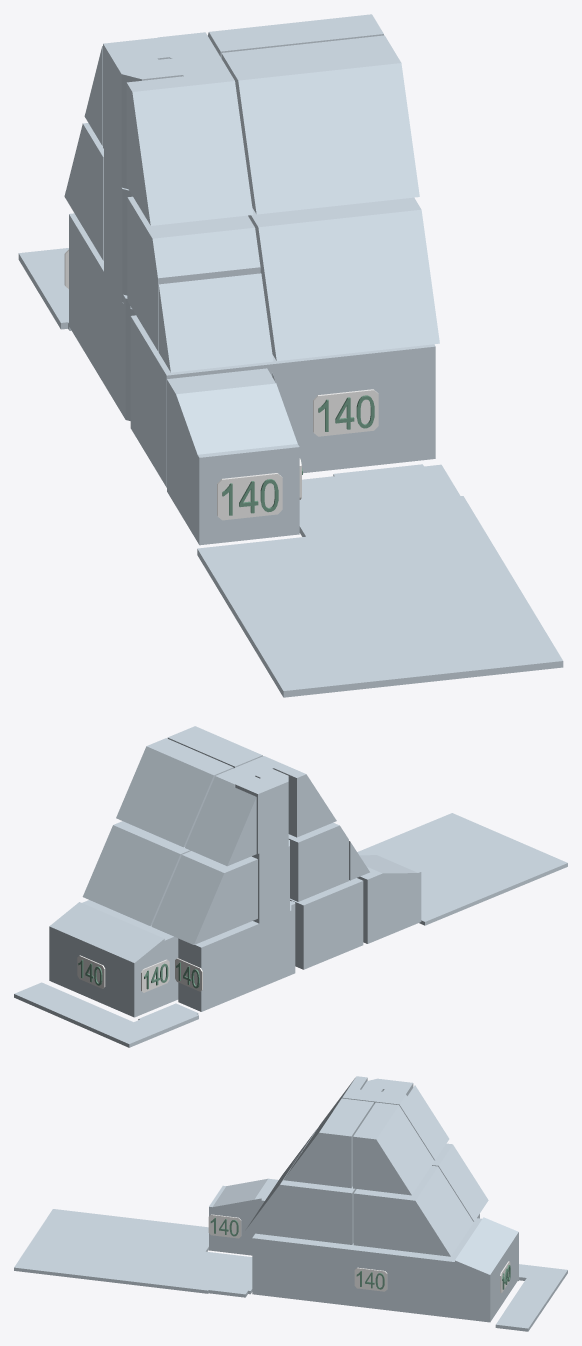
3 views of the same model, one above another, from view 1: azimuth 30°, elevation 25°; view 2: azimuth 150°, elevation 25°; view 3: azimuth 270°, elevation 25° (orthographic). The views are drawn at different scales.
Parts seen in each view (by area): view 1: g_17, g_12, g_7, g_1, g_14, g_0, g_16, g_6, g_15, g_5, g_13, g_3 (+5 smaller); view 2: g_17, g_2, g_14, g_13, g_11, g_8, g_5, g_1, g_0, g_6, g_15, g_3 (+8 smaller); view 3: g_17, g_2, g_8, g_13, g_7, g_1, g_12, g_0, g_14, g_19, g_11, g_18 (+3 smaller).
Part boxes in pixels (x1,y1,x2,y2): g_17: (197, 464, 563, 697); g_12: (221, 35, 419, 214); g_7: (248, 197, 439, 361); g_1: (130, 315, 435, 487); g_14: (84, 32, 253, 225); g_0: (167, 368, 299, 545); g_16: (158, 273, 273, 372); g_6: (127, 196, 260, 351); g_15: (103, 37, 182, 179); g_5: (69, 213, 103, 381); g_13: (208, 14, 383, 58); g_3: (102, 263, 135, 420); g_17: (357, 813, 567, 925); g_2: (49, 900, 178, 1017); g_14: (185, 756, 336, 866); g_13: (116, 738, 233, 847); g_11: (151, 851, 257, 944); g_8: (82, 821, 190, 925); g_5: (178, 921, 257, 1011); g_1: (290, 878, 363, 969); g_0: (357, 854, 421, 943); g_6: (288, 822, 348, 901); g_15: (235, 768, 288, 853); g_3: (251, 901, 295, 988); g_17: (14, 1209, 252, 1297); g_2: (323, 1217, 518, 1322); g_8: (353, 1166, 473, 1256); g_13: (353, 1102, 434, 1195); g_7: (244, 1150, 356, 1244); g_1: (252, 1233, 325, 1302); g_12: (283, 1098, 374, 1188); g_0: (209, 1178, 278, 1255); g_14: (307, 1076, 449, 1160); g_19: (495, 1278, 559, 1331); g_11: (432, 1143, 488, 1221); g_18: (518, 1264, 567, 1284).
Size of the model in its own units: 11.77 by 7.94 by 23.02.
